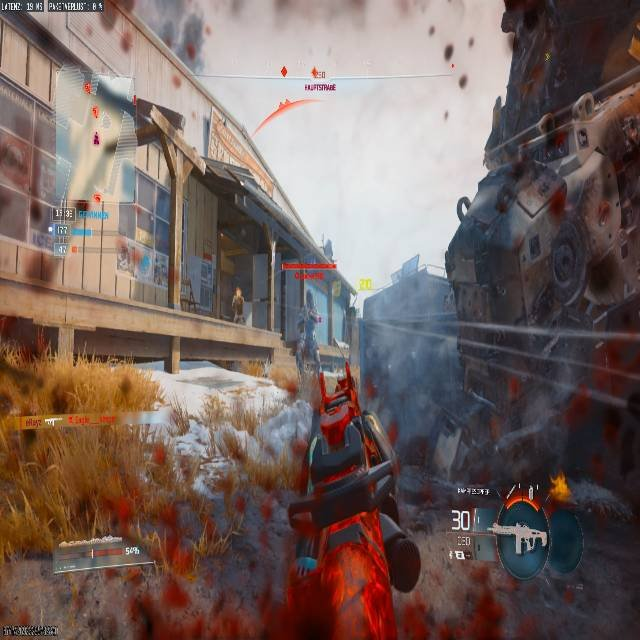player: (295, 288, 323, 353)
